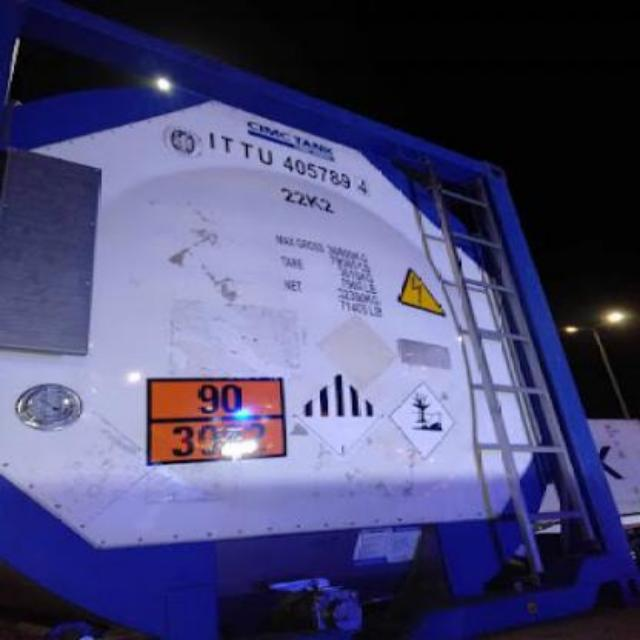0: (294, 159, 306, 177)
4: (354, 176, 370, 197), (282, 154, 294, 173)
5: (306, 162, 318, 180)
7: (317, 164, 329, 183)
8: (328, 168, 339, 186)
9: (340, 172, 352, 190)
I: (207, 130, 217, 152)
T: (220, 134, 236, 156), (240, 140, 254, 160)
U: (258, 146, 274, 166)
